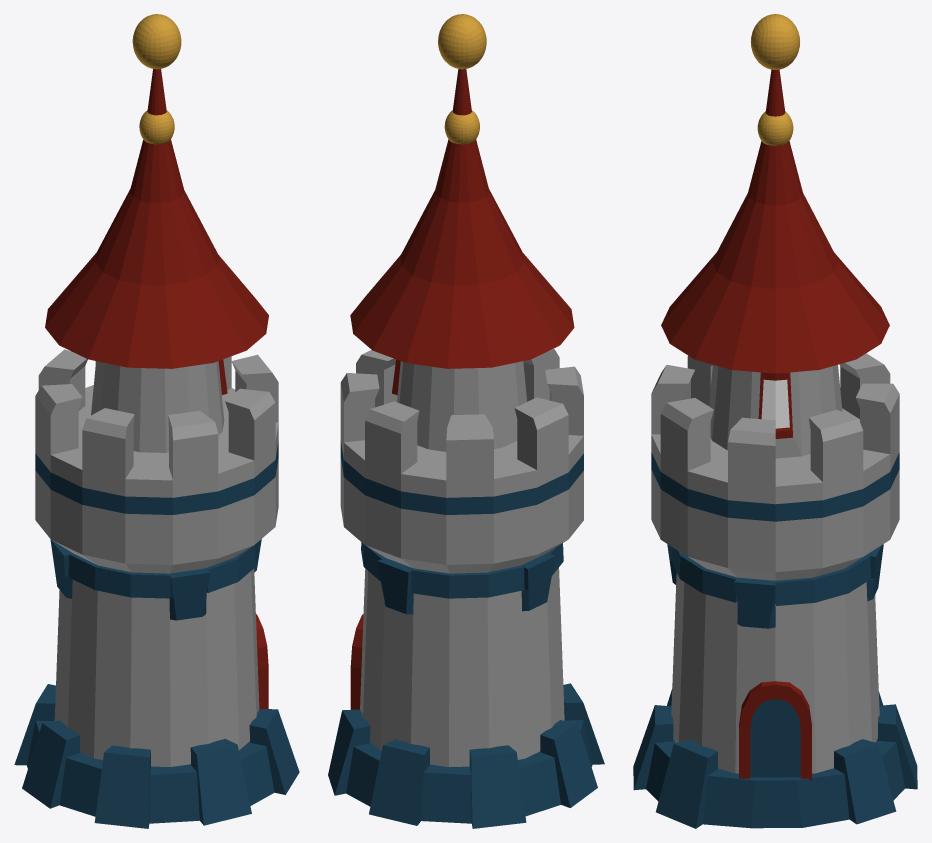
File: tower_v1.fbx
3 renders of one model, left to right at view 1: azimuth 30°, elevation 25°; view 2: azimuth 150°, elevation 25°; view 3: azimuth 270°, elevation 25°, orthographic.
Parts seen in each view (by area): view 1: Circle.001, Circle.003, Circle, Circle.002, Circle.005, Roundcube.001, Roundcube, Circle.004; view 2: Circle.001, Circle.003, Circle, Circle.002, Circle.005, Roundcube.001, Roundcube, Circle.004; view 3: Circle.001, Circle.003, Circle, Circle.002, Circle.005, Circle.004, Roundcube.001, Roundcube.
Part boxes in pixels (bbox=[...]): Circle.001: bbox=[35, 349, 278, 766]; Circle.003: bbox=[45, 69, 268, 368]; Circle: bbox=[14, 684, 299, 828]; Circle.002: bbox=[91, 359, 227, 452]; Circle.005: bbox=[50, 539, 261, 620]; Roundcube.001: bbox=[132, 14, 181, 69]; Roundcube: bbox=[139, 110, 174, 144]; Circle.004: bbox=[256, 614, 268, 708]; Circle.001: bbox=[340, 349, 583, 766]; Circle.003: bbox=[350, 69, 574, 368]; Circle: bbox=[328, 683, 604, 828]; Circle.002: bbox=[392, 359, 526, 451]; Circle.005: bbox=[361, 542, 563, 614]; Roundcube.001: bbox=[438, 14, 486, 69]; Roundcube: bbox=[444, 110, 479, 144]; Circle.004: bbox=[350, 614, 363, 709]; Circle.001: bbox=[651, 353, 899, 773]; Circle.003: bbox=[661, 69, 889, 373]; Circle: bbox=[633, 689, 917, 828]; Circle.002: bbox=[709, 365, 842, 458]; Circle.005: bbox=[667, 544, 883, 628]; Circle.004: bbox=[739, 681, 811, 780]; Roundcube.001: bbox=[751, 14, 799, 69]; Roundcube: bbox=[757, 111, 793, 145].
Bounding box in the file's own units: 254 × 801 × 271.
